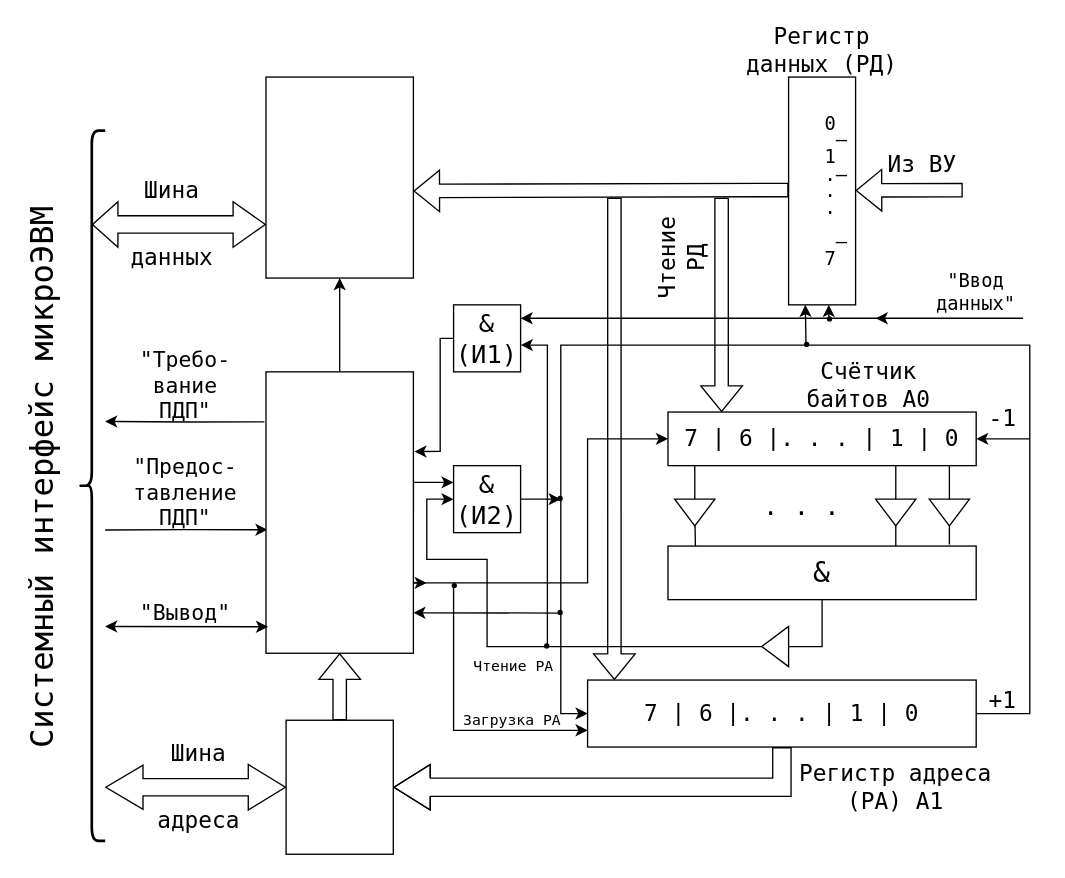
Image size: 1065x878. Some labels were removed from this diagram. The shapes that lost their labels are listed below. From the top down, each one's box as (x1, y1, x2, y2) in pixels, then its label:
(265, 76, 413, 278): Приемопе- редатчики шины данных
(265, 371, 413, 653): Логика управле- ния
(285, 719, 393, 854): Прием- ники шины адреса
